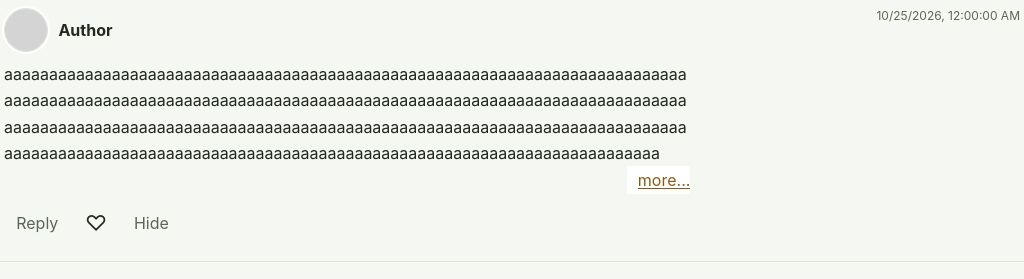
Test case: PostCard content preview › renders full Markdown before clipping and expands the complete rendered post
Click the button "more..." at (659, 180), box [628, 166, 690, 194]
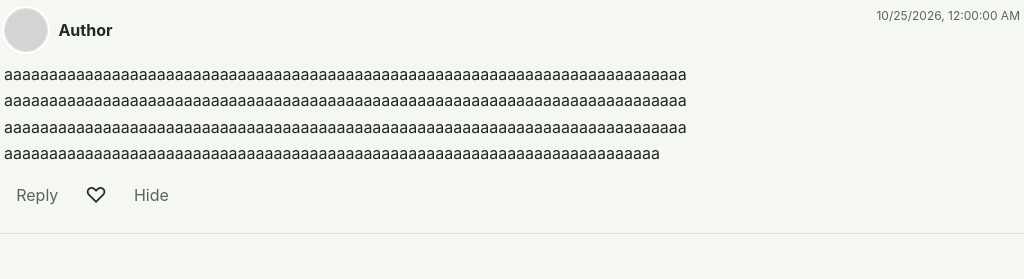
Now the button "more..." is gone
